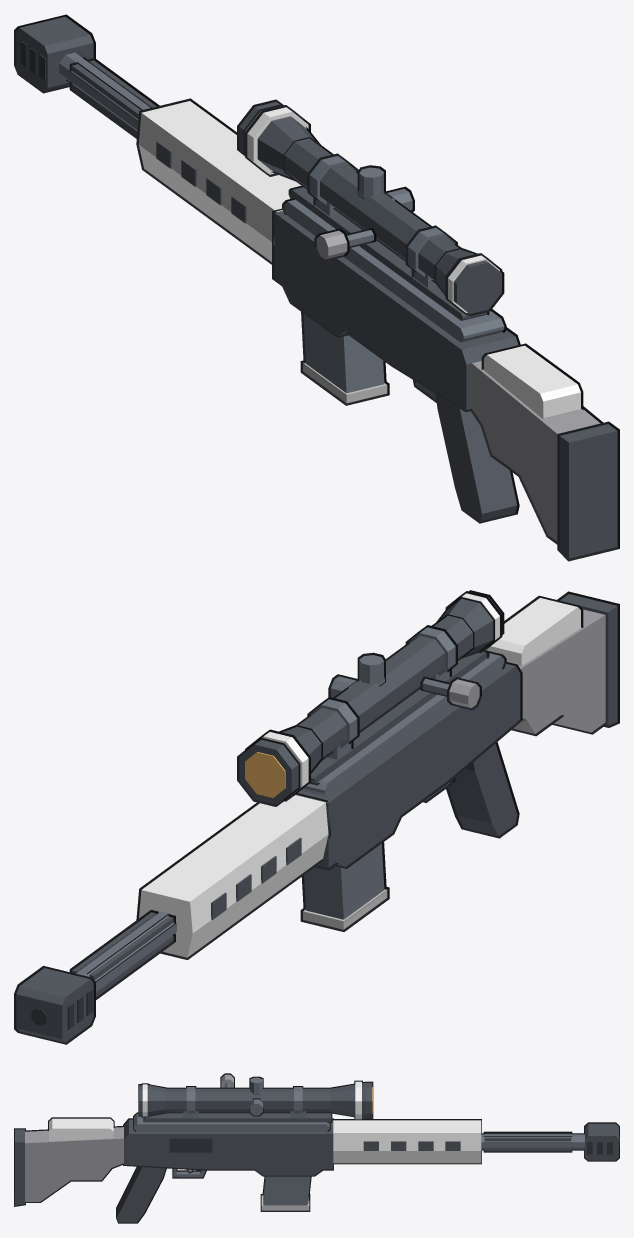
The model's file is SNIPER.gltf.
The picture shows the model from 3 angles, top to bottom: view 1: azimuth 30°, elevation 25°; view 2: azimuth 150°, elevation 25°; view 3: azimuth 270°, elevation 25°; orthographic projection. The views are drawn at different scales.
Parts seen in each view (by area): view 1: SNIPER, anim_bolt; view 2: SNIPER, anim_bolt; view 3: SNIPER.
Part boxes in pixels (box(x1,y1,x2,y2)): SNIPER: box(14, 14, 619, 561); anim_bolt: box(314, 228, 376, 261); SNIPER: box(14, 590, 619, 1044); anim_bolt: box(420, 676, 481, 710); SNIPER: box(14, 1076, 619, 1223).
Size of the model in its own units: 0.0842 by 0.1802 by 0.7122.
